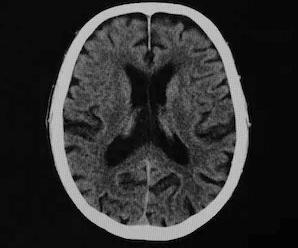Normal_Brain: (1, 1, 254, 248)
